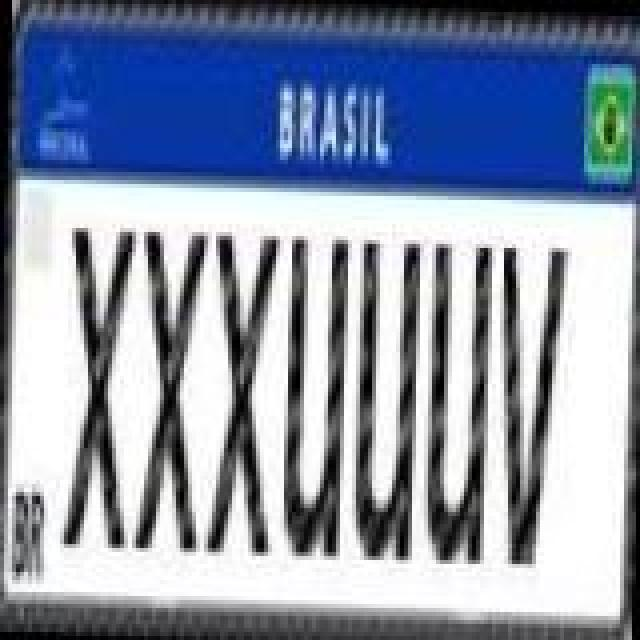U: (348, 226, 424, 566), (416, 228, 492, 568), (278, 232, 350, 556)
V: (486, 240, 566, 568)
X: (130, 216, 210, 556), (58, 220, 138, 548), (202, 228, 282, 556)
